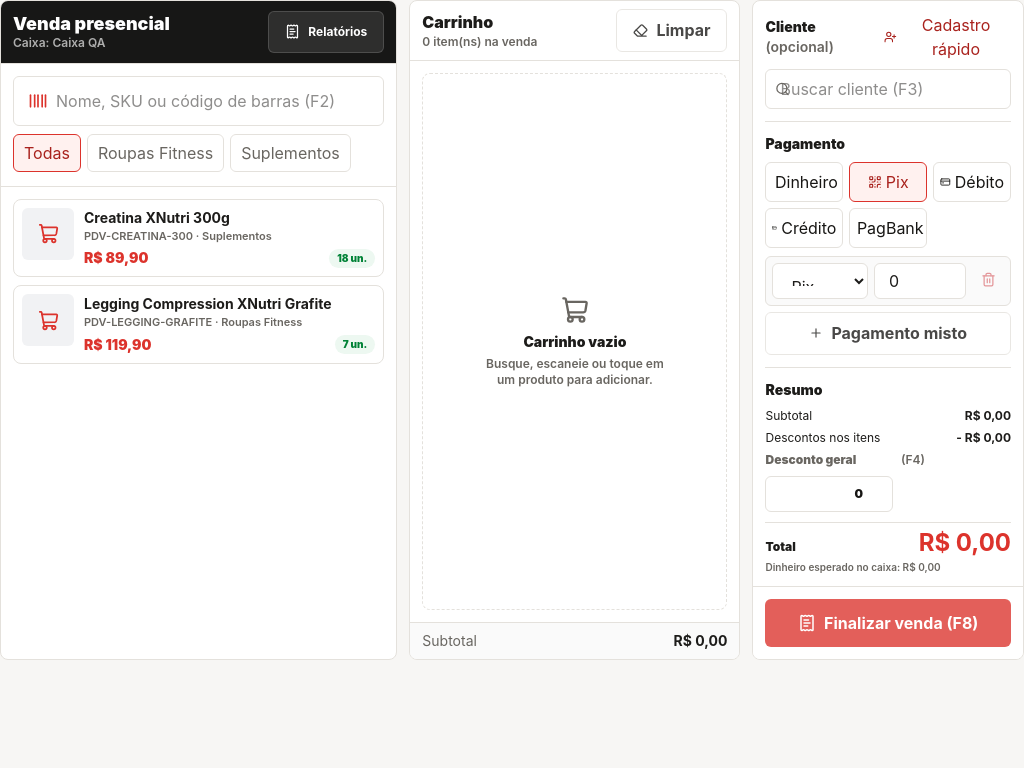
it: PDV - pagamento misto › filtra por categoria e mantém produtos e carrinho na mesma estação
Expected: the element that starts with "Venda presencial" is shown, left=0, top=0, right=397, bottom=660
Expected: the element that starts with "Carrinho" is shown, left=409, top=0, right=740, bottom=660
Click the button "Roupas Fitness".
click(156, 153)  # box left=87, top=134, right=224, bottom=172
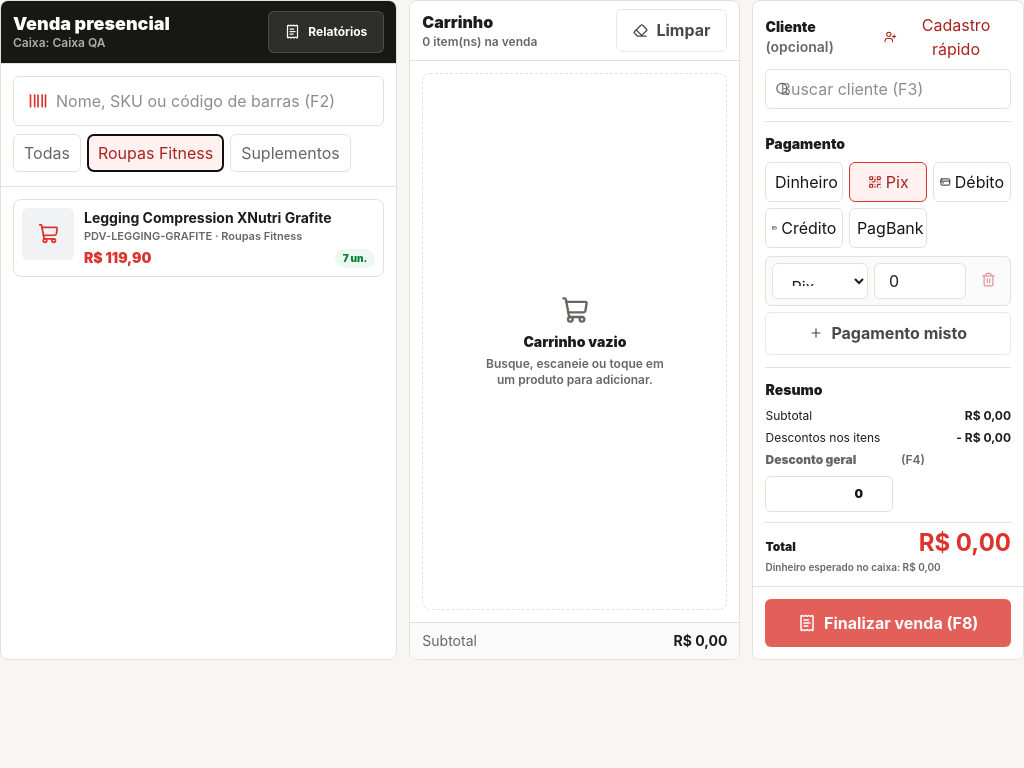
Expected: the button "Legging Compression XNutri" is shown, left=13, top=199, right=384, bottom=277
Result: the button "Creatina XNutri 300g" is gone
